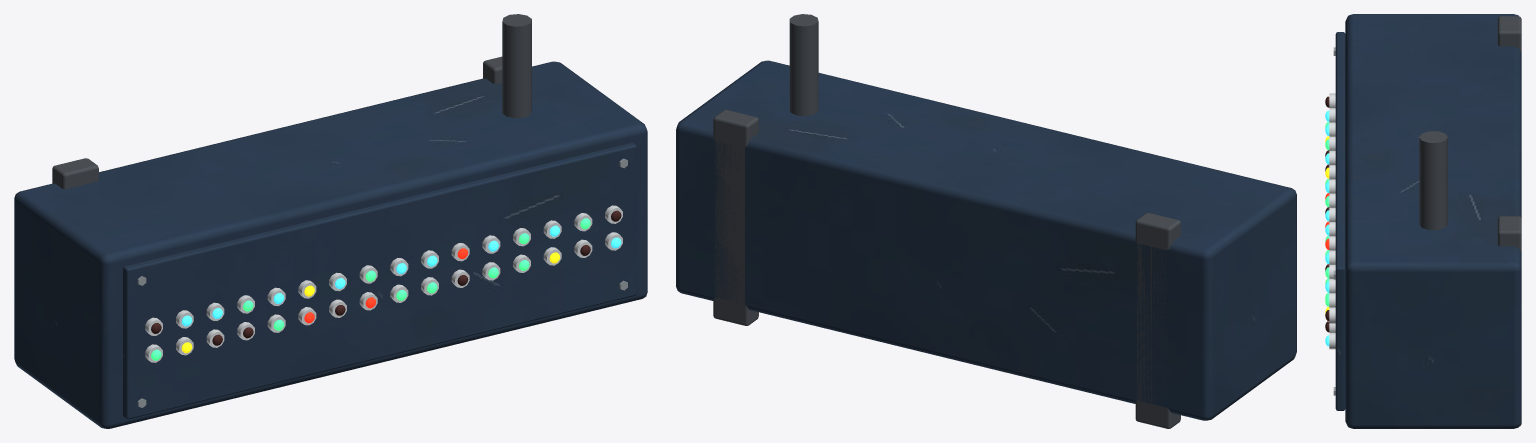
The model's file is WallBox_75_2.glb.
3 views of the same model, side by side, from view 1: azimuth 30°, elevation 25°; view 2: azimuth 150°, elevation 25°; view 3: azimuth 270°, elevation 25° (orthographic). The views are drawn at different scales.
Visible parts, largest first — view 1: WallBox_75_2_Body; view 2: WallBox_75_2_Body; view 3: WallBox_75_2_Body.
Boxes of the visible parts, x1,y1,x2,y2 form: WallBox_75_2_Body: (14, 14, 647, 428); WallBox_75_2_Body: (676, 14, 1296, 428); WallBox_75_2_Body: (1325, 14, 1521, 428).
Size of the model in its own units: 0.75 by 0.37 by 0.2452.
9 materials, 1 textured.
